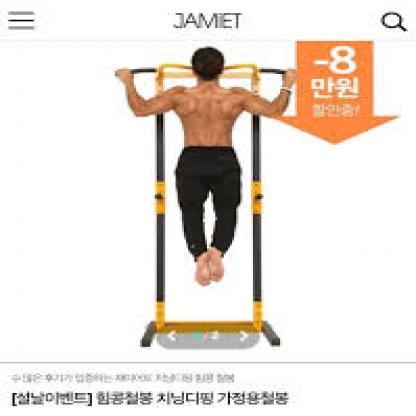chinning dipping: (117, 65, 297, 349)
